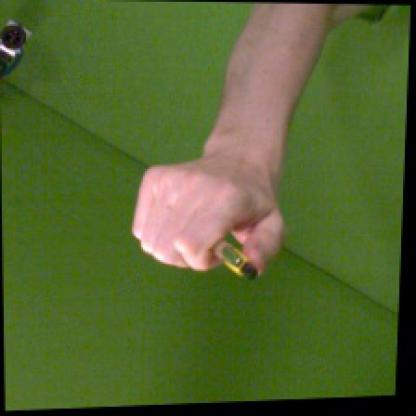Hand: (134, 154, 288, 276)
